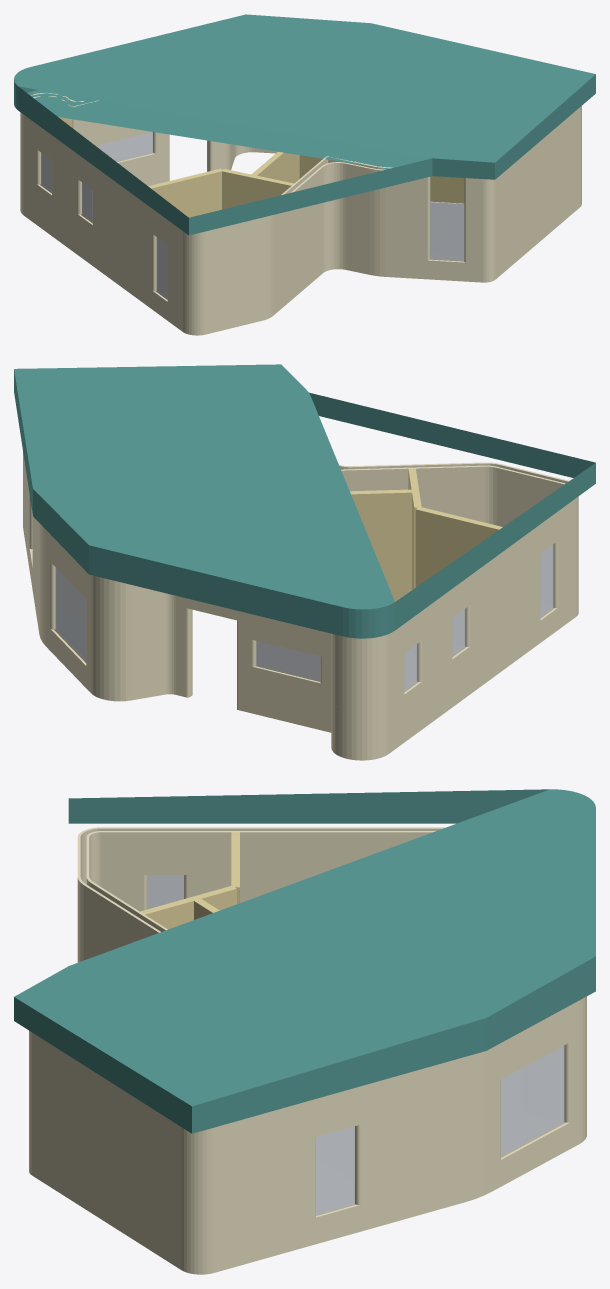
The model's file is MarkX.glb.
3 renders of one model, top to bottom at view 1: azimuth 30°, elevation 25°; view 2: azimuth 150°, elevation 25°; view 3: azimuth 270°, elevation 25°, orthographic. The views are drawn at different scales.
Bounding box in the file's own units: 41.44 × 11.52 × 32.85.
